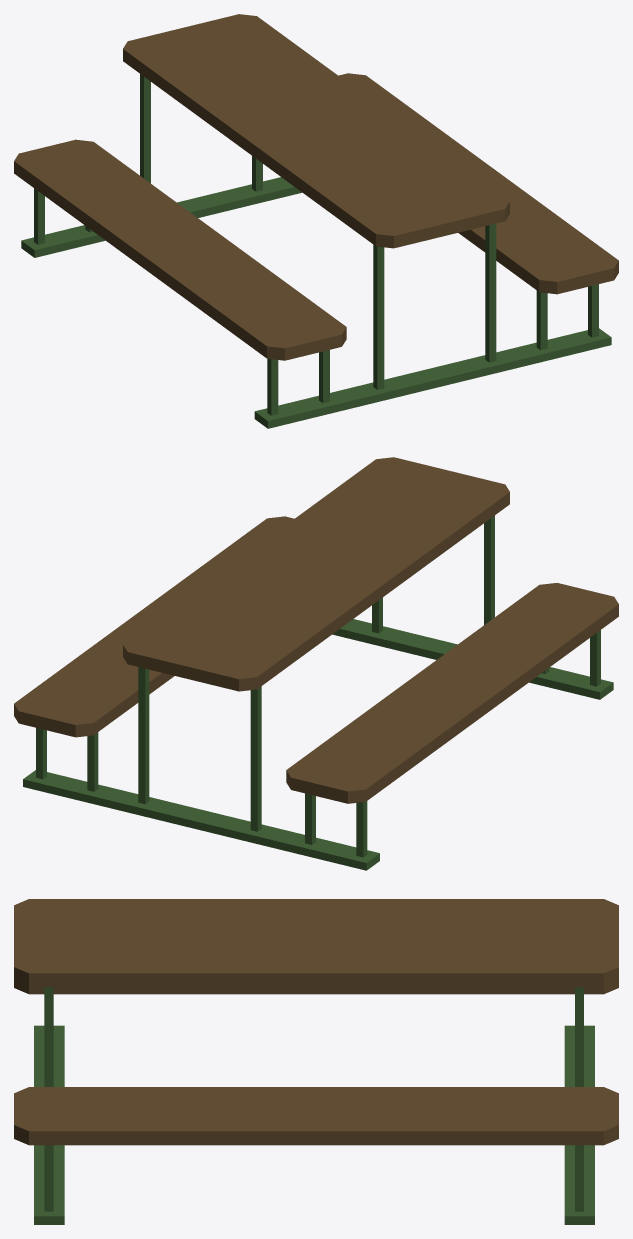
Rendered from Bench 2.fbx.
3 views of the same model, one above another, from view 1: azimuth 30°, elevation 25°; view 2: azimuth 150°, elevation 25°; view 3: azimuth 270°, elevation 25° (orthographic). The views are drawn at different scales.
Visible parts, largest first — view 1: bench 2; view 2: bench 2; view 3: bench 2.
Boxes of the visible parts, <box> form: bench 2: <box>14,14,618,428</box>; bench 2: <box>14,457,618,870</box>; bench 2: <box>14,899,618,1224</box>.
Size of the model in its own units: 129 by 59.9 by 169.
1 material, 1 textured.
